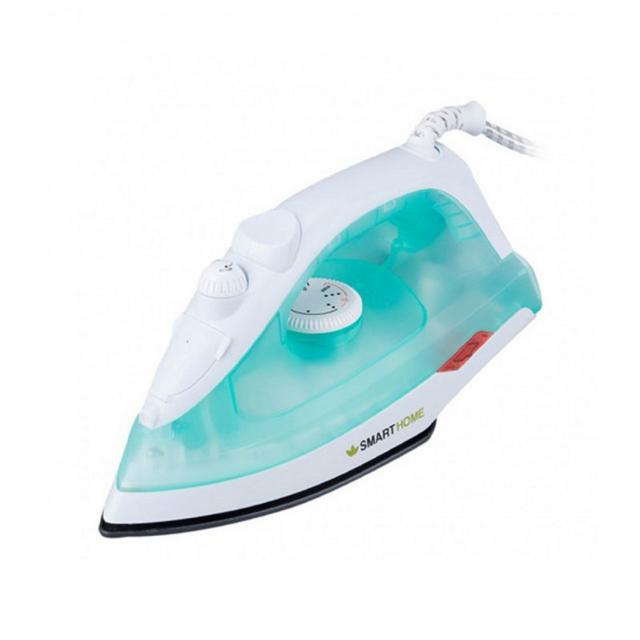Clothes-Iron: (88, 133, 546, 572)
